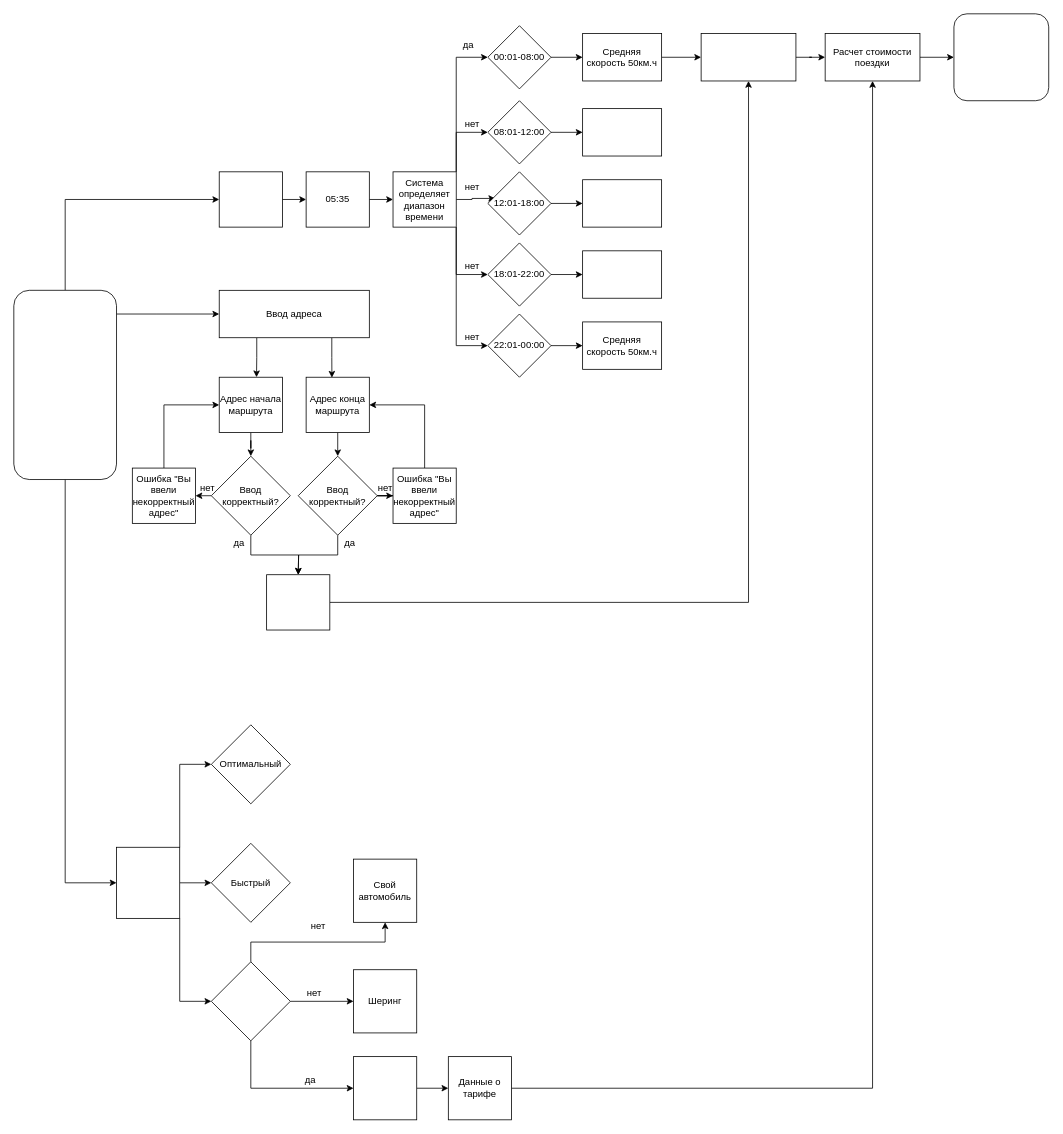
This 1063x1134 diagram has some shape labels left out. The shapes that lost their labels are listed below. From the top down, each one's centre as x and y in pixels, then its label:
[748,57]: Расчет времени поездки
[1001,57]: Такси ~ 30,36 Время в пути 2,76 минуты
[622,132]: Средняя скорость 35км.ч
[250,199]: указать время начала поездки
[622,203]: Средняя скорость 42км.ч
[622,274]: Средняя скорость 30км.ч
[65,385]: Открыть Яндекс Маршруты
[298,602]: Система определяет расстояние 2,3 км
[148,882]: Выбор режима поездки
[250,1001]: Свой
[385,1088]: Такси
